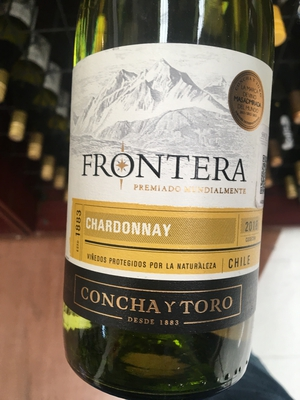frontera chardonnay: (62, 14, 276, 394)
